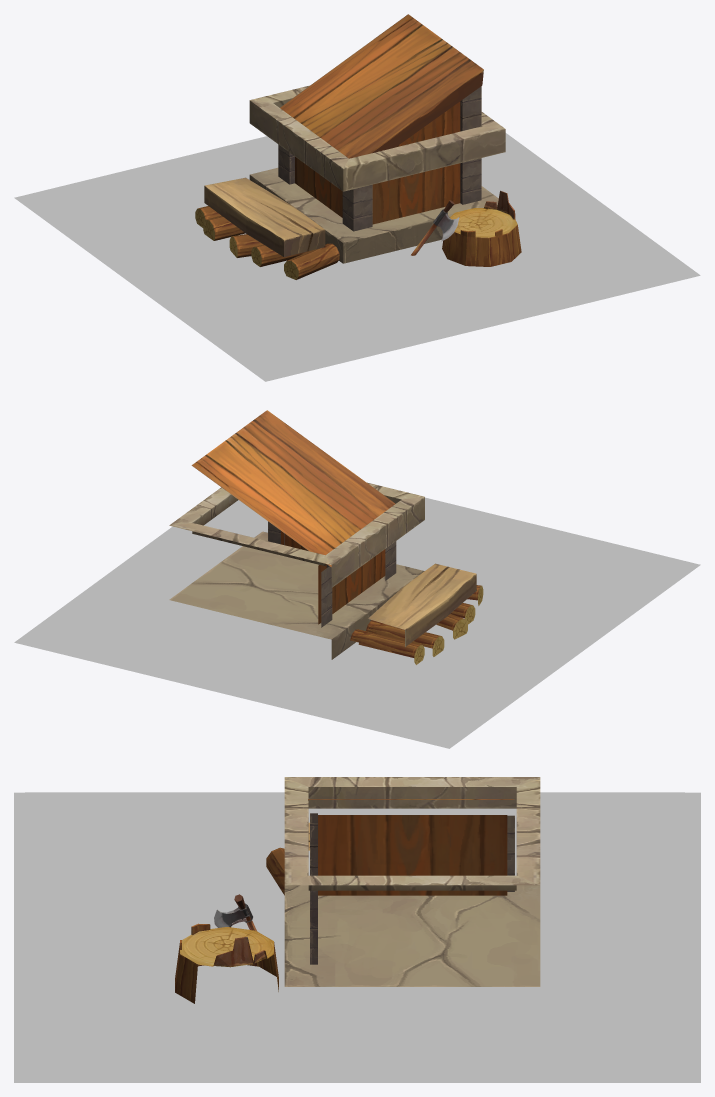
The model's file is The main city_023_LV05.FBX.
3 views of the same model, one above another, from view 1: azimuth 30°, elevation 25°; view 2: azimuth 150°, elevation 25°; view 3: azimuth 270°, elevation 25° (orthographic). The views are drawn at different scales.
Visible parts, largest first — view 1: The main city_023_LV05; view 2: The main city_023_LV05; view 3: The main city_023_LV05.
Part boxes in pixels (x1,y1,x2,y2): The main city_023_LV05: [14, 14, 700, 381]; The main city_023_LV05: [14, 410, 700, 748]; The main city_023_LV05: [14, 777, 700, 1082].
Bounding box in the file's own units: 59.9 × 20.58 × 59.9.
